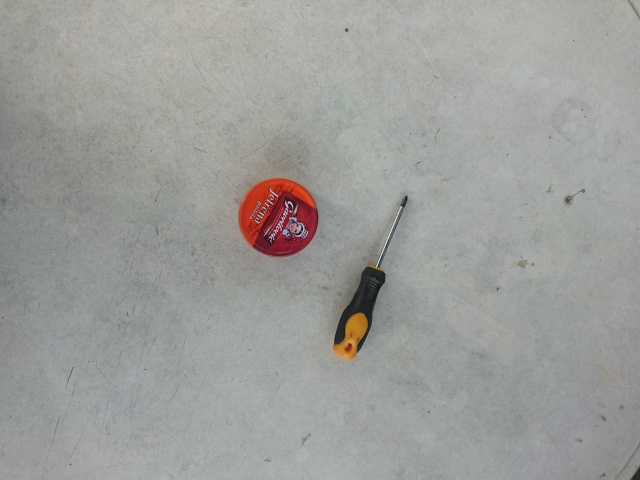Gavrilovic Pork Liver Pate 100g: (236, 176, 320, 258)
